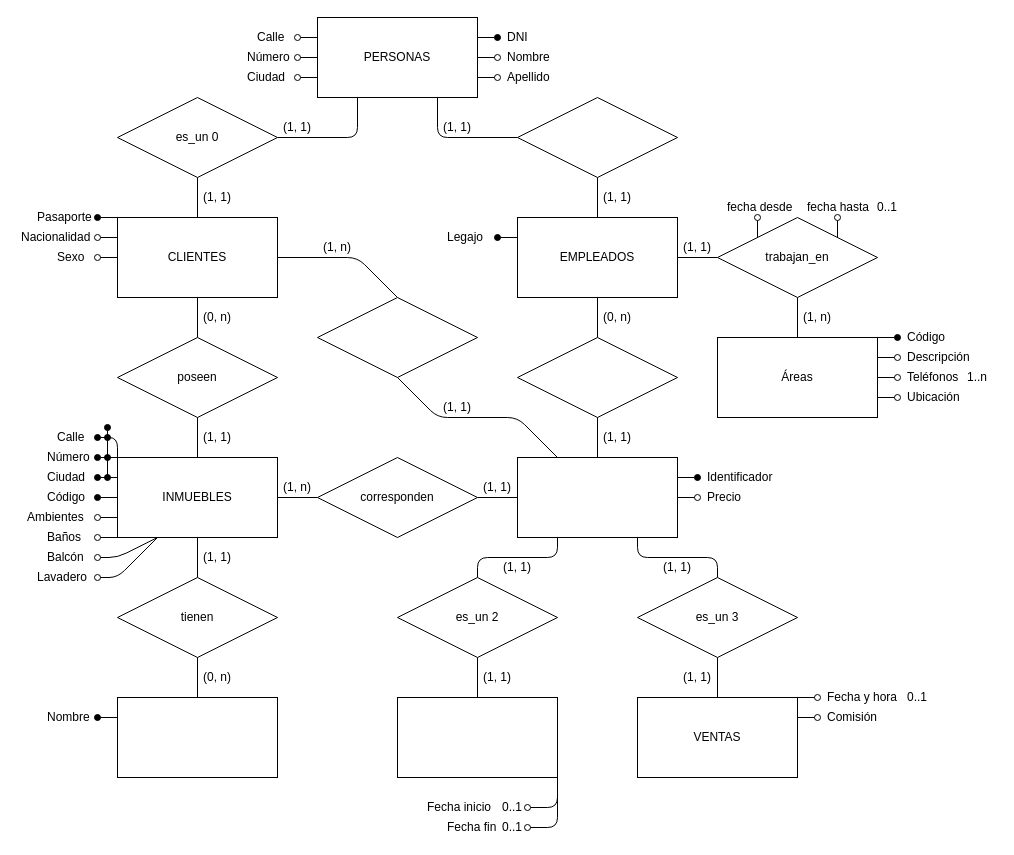
Some shapes in this 1014 by 855 pixel diagram are drawn without their labels. The shapes that lost their labels are listed below. From the top down, each one's centre as x and y in pixels, then its label:
At (x=597, y=137): "es_un 1".
At (x=397, y=337): "solicitan".
At (x=597, y=377): "realizan".
At (x=597, y=497): "OPERACIONES".
At (x=197, y=737): "TIPOS DE INMUEBLE".
At (x=477, y=737): "ALQUILERES".
